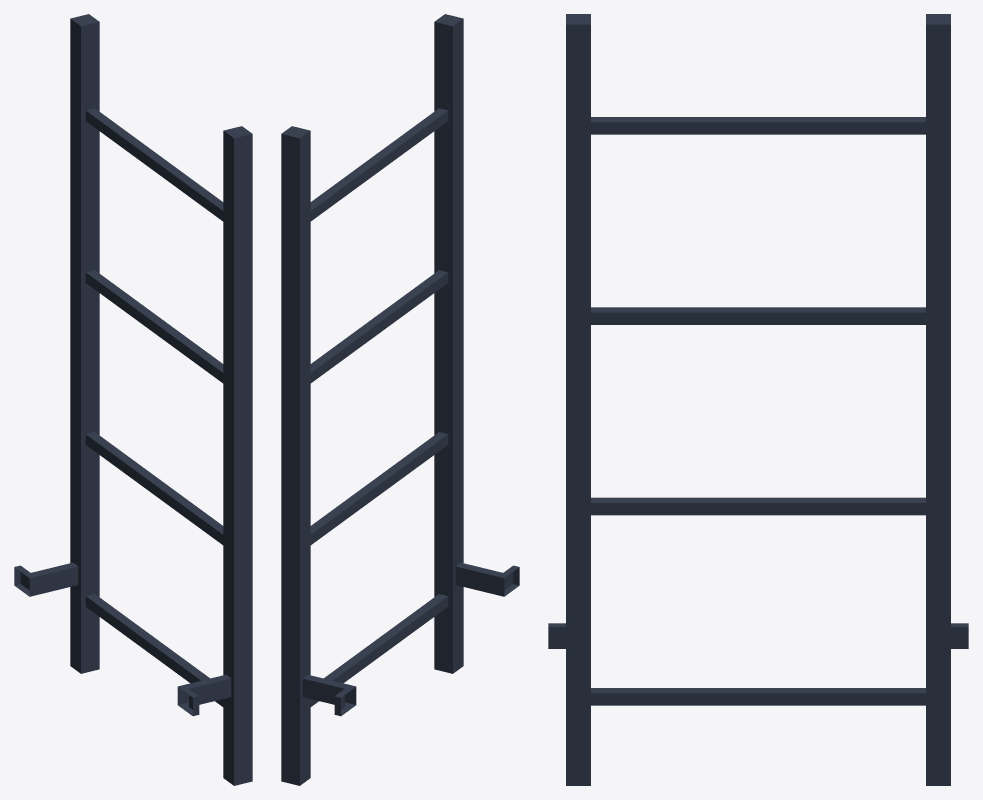
The model's file is ladder.fbx.
3 views of the same model, side by side, from view 1: azimuth 30°, elevation 25°; view 2: azimuth 150°, elevation 25°; view 3: azimuth 270°, elevation 25° (orthographic). The views are drawn at different scales.
Visible parts, largest first — view 1: Cube.005; view 2: Cube.005; view 3: Cube.005.
Boxes of the visible parts, x1,y1,x2,y2 form: Cube.005: (14, 14, 252, 785); Cube.005: (281, 14, 519, 785); Cube.005: (548, 14, 968, 785).
Size of the model in its own units: 130 by 1200 by 600.
